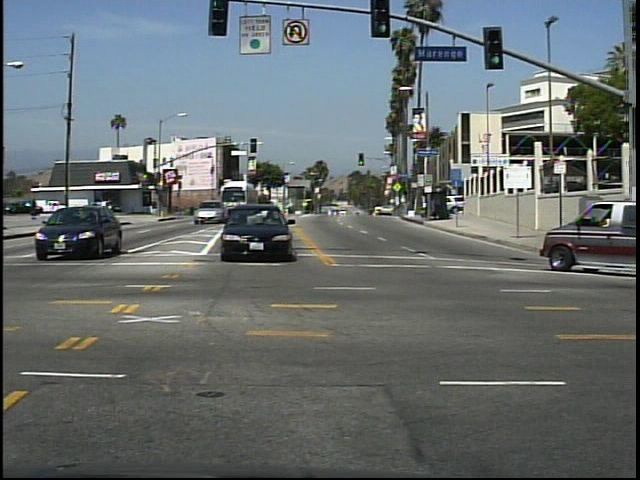person: (26, 193, 43, 222)
